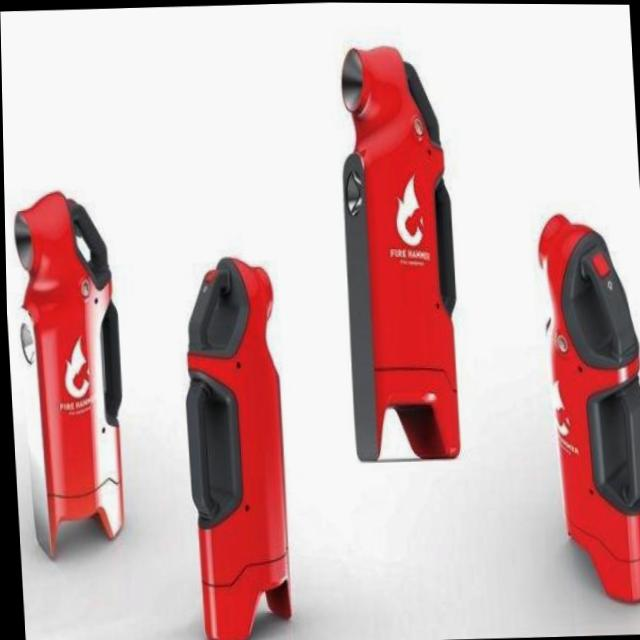FireExtinguisher: (323, 33, 470, 473), (172, 249, 300, 640), (4, 184, 130, 558), (529, 199, 640, 614)
